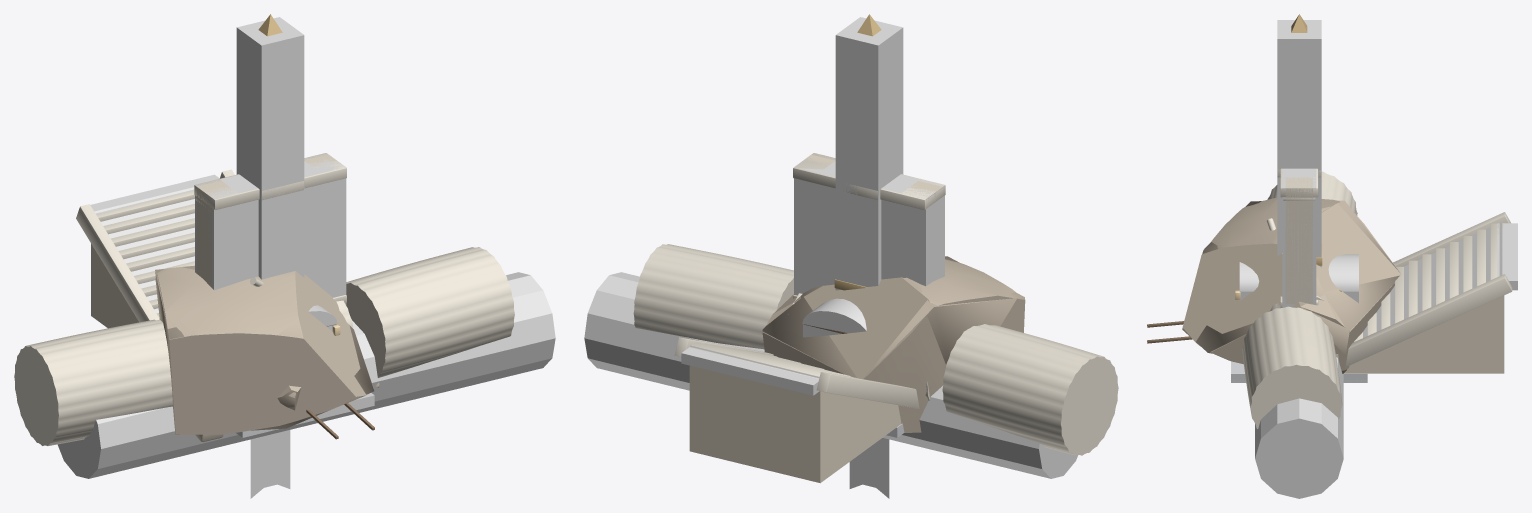
Rendered from watchtower_kit.glb.
3 views of the same model, side by side, from view 1: azimuth 30°, elevation 25°; view 2: azimuth 150°, elevation 25°; view 3: azimuth 270°, elevation 25° (orthographic). The views are drawn at different scales.
Visible parts, largest first — view 1: KIT_FallenGiant, KIT_Rock_D, COL_FallenGiant_0_CYL, COL_Obelisk_1_BOX, KIT_Stairs_4w, COL_Wall_4x6_0_BOX, COL_Wall_4x6_Window_1_BOX, KIT_Wall_4x6, COL_Stairs_4w_0_BOX, KIT_Banner, COL_Wall_4x6_Window_0_BOX, COL_Wall_4x6_Door_1_BOX (+4 smaller); view 2: KIT_FallenGiant, KIT_Stairs_4w, COL_Obelisk_1_BOX, KIT_Rock_D, COL_FallenGiant_0_CYL, COL_Rock_D_0_HULL, COL_Wall_4x6_0_BOX, COL_Wall_4x6_Window_1_BOX, COL_Wall_4x6_Door_2_BOX, COL_Stairs_4w_1_BOX, KIT_Wall_4x6, COL_Wall_4x6_Door_1_BOX (+4 smaller); view 3: KIT_Stairs_4w, KIT_Rock_D, KIT_FallenGiant, COL_FallenGiant_0_CYL, COL_Obelisk_1_BOX, KIT_Wall_4x6, COL_Rock_D_0_HULL, COL_Stairs_4w_0_BOX, COL_Wall_4x6_0_BOX, KIT_Carriage, COL_Stairs_4w_1_BOX, KIT_Floor_4x4.
Part boxes in pixels (box(x1,y1,x2,y2)): KIT_FallenGiant: box(14, 247, 514, 445); KIT_Rock_D: box(155, 265, 373, 434); COL_FallenGiant_0_CYL: box(57, 272, 555, 478); COL_Obelisk_1_BOX: box(236, 17, 304, 279); KIT_Stairs_4w: box(76, 169, 234, 328); COL_Wall_4x6_0_BOX: box(195, 153, 346, 305); COL_Wall_4x6_Window_1_BOX: box(304, 154, 346, 303); KIT_Wall_4x6: box(194, 153, 346, 287); COL_Stairs_4w_0_BOX: box(94, 187, 194, 313); KIT_Banner: box(250, 430, 290, 498); COL_Wall_4x6_Window_0_BOX: box(197, 181, 256, 288); COL_Wall_4x6_Door_1_BOX: box(316, 159, 346, 304); KIT_FallenGiant: box(633, 244, 1118, 455); KIT_Stairs_4w: box(674, 337, 919, 483); COL_Obelisk_1_BOX: box(835, 17, 903, 290); KIT_Rock_D: box(762, 259, 1025, 433); COL_FallenGiant_0_CYL: box(584, 272, 1078, 478); COL_Rock_D_0_HULL: box(762, 256, 1024, 379); COL_Wall_4x6_0_BOX: box(794, 154, 944, 295); COL_Wall_4x6_Window_1_BOX: box(794, 179, 835, 294); COL_Wall_4x6_Door_2_BOX: box(818, 161, 919, 267); COL_Stairs_4w_1_BOX: box(681, 345, 819, 395); KIT_Wall_4x6: box(793, 153, 945, 209); COL_Wall_4x6_Door_1_BOX: box(794, 168, 823, 294); KIT_Stairs_4w: box(1336, 212, 1512, 373); KIT_Rock_D: box(1182, 197, 1400, 370); KIT_FallenGiant: box(1242, 171, 1357, 428); COL_FallenGiant_0_CYL: box(1255, 357, 1343, 498); COL_Obelisk_1_BOX: box(1277, 20, 1321, 267); KIT_Wall_4x6: box(1280, 168, 1318, 304); COL_Rock_D_0_HULL: box(1182, 200, 1399, 373); COL_Stairs_4w_0_BOX: box(1363, 222, 1502, 337); COL_Wall_4x6_0_BOX: box(1282, 177, 1316, 304); KIT_Carriage: box(1147, 254, 1358, 343); COL_Stairs_4w_1_BOX: box(1497, 223, 1517, 290); KIT_Floor_4x4: box(1231, 361, 1367, 382).
Size of what is drawn, in the model's own units: 14.87 by 13.9 by 10.86.
